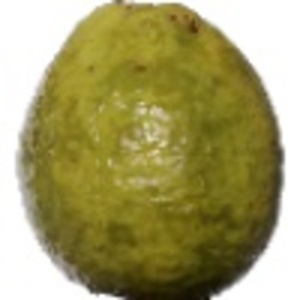goiaba: (12, 2, 290, 298)
